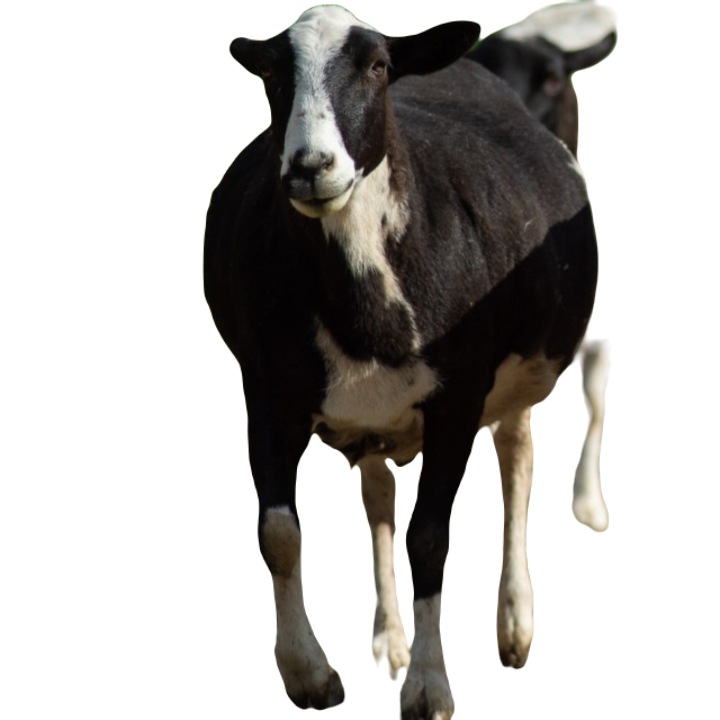Sheep: (193, 2, 603, 719)
